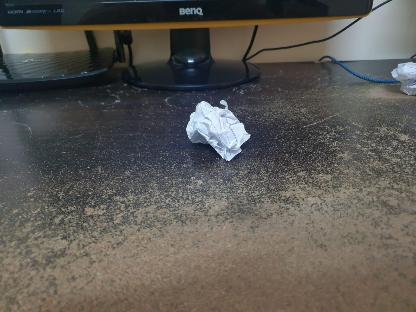Paper: (184, 98, 250, 164)
